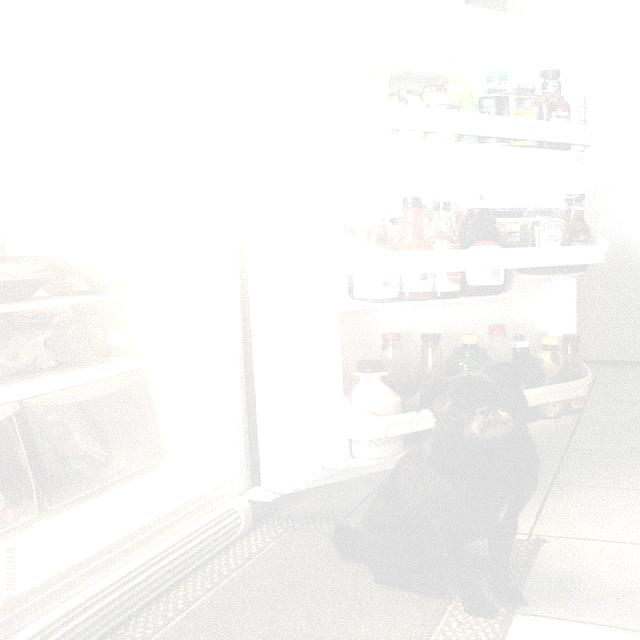Dog: (317, 376, 598, 628)
